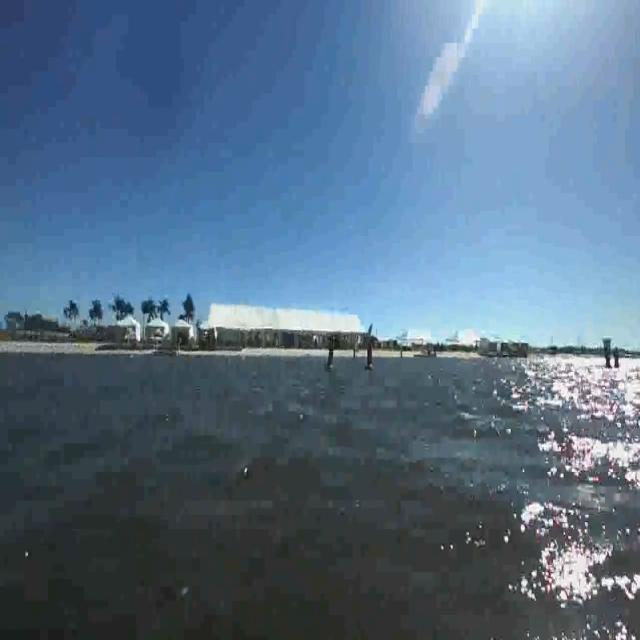green-column-buoy: (325, 340, 336, 370)
red-column-buoy: (364, 342, 375, 371)
